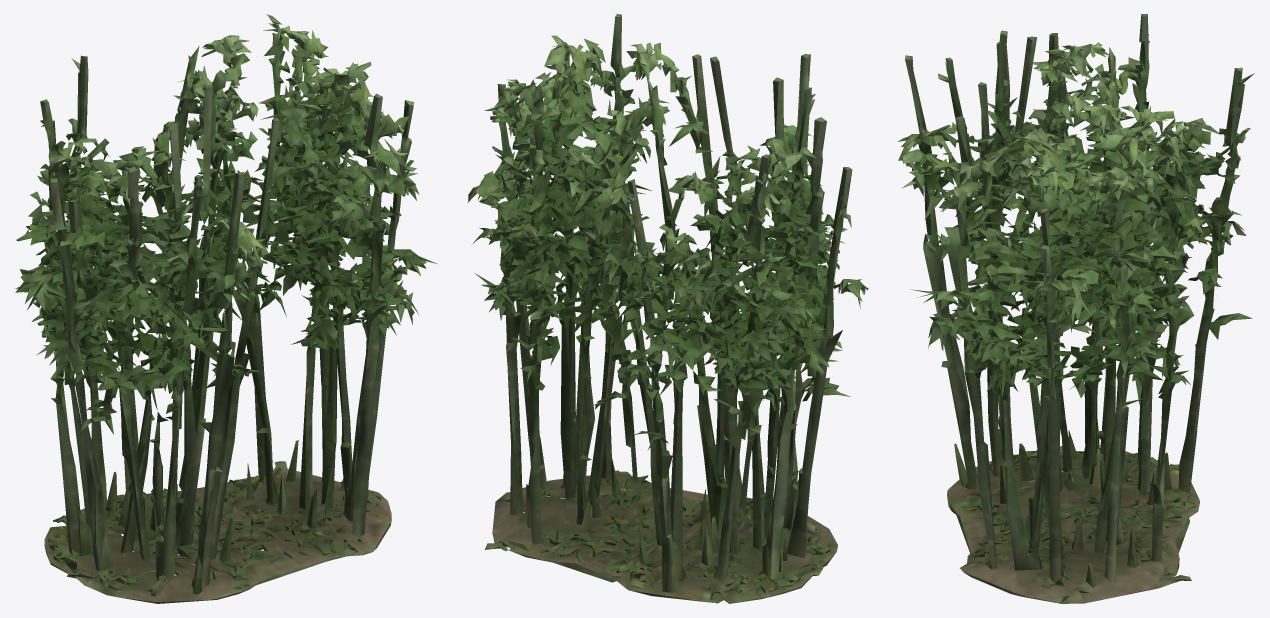
The model's file is ENV-003.glb.
3 views of the same model, side by side, from view 1: azimuth 30°, elevation 25°; view 2: azimuth 150°, elevation 25°; view 3: azimuth 270°, elevation 25° (orthographic).
Visible parts, largest first — view 1: world; view 2: world; view 3: world.
Part boxes in pixels (x1,y1,x2,y2): world: (14,14,437,603); world: (467,14,868,603); world: (898,14,1254,603).
Bounding box in the file's own units: 2.1 × 2.5 × 1.65.
1 material, 1 textured.
